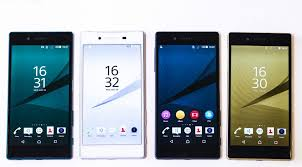sony: (7, 30, 79, 165), (80, 28, 152, 163), (153, 26, 225, 161), (224, 28, 296, 163)
